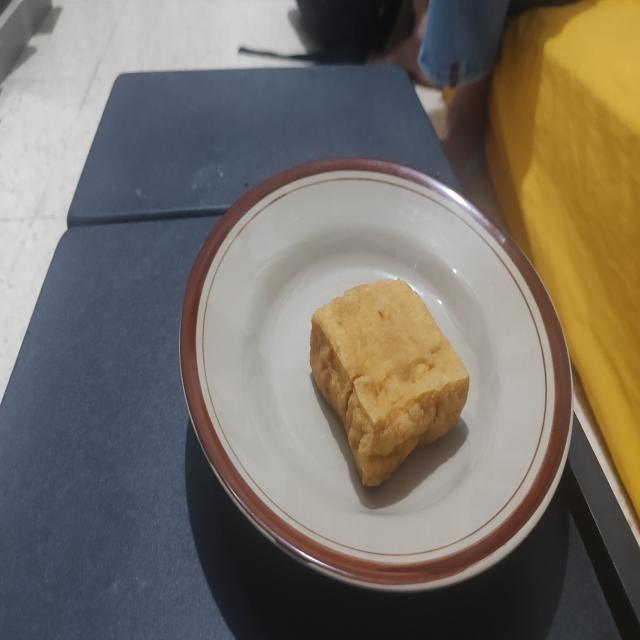tahu_goreng: (310, 278, 469, 486)
